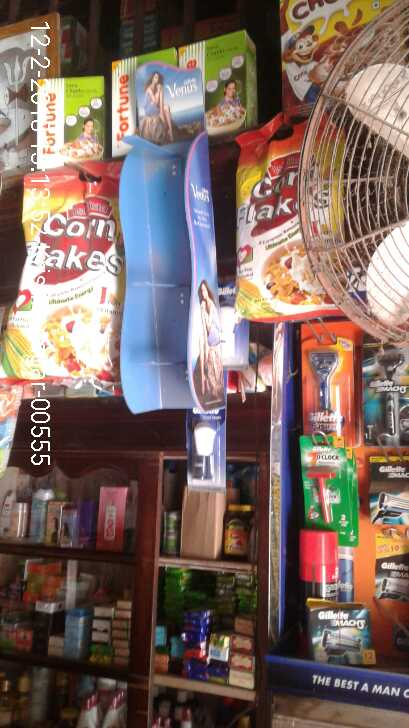beauty: (302, 323, 355, 437), (300, 438, 357, 536), (308, 602, 379, 671), (363, 352, 409, 443), (371, 458, 409, 522)
